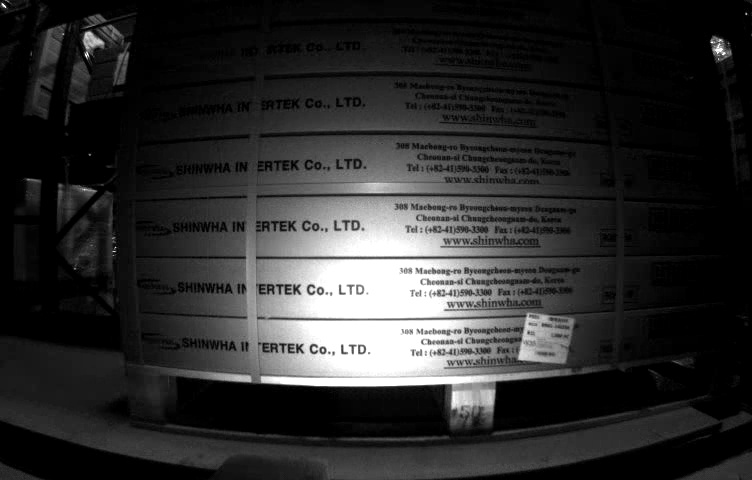True Barcode: (518, 311, 573, 366)
